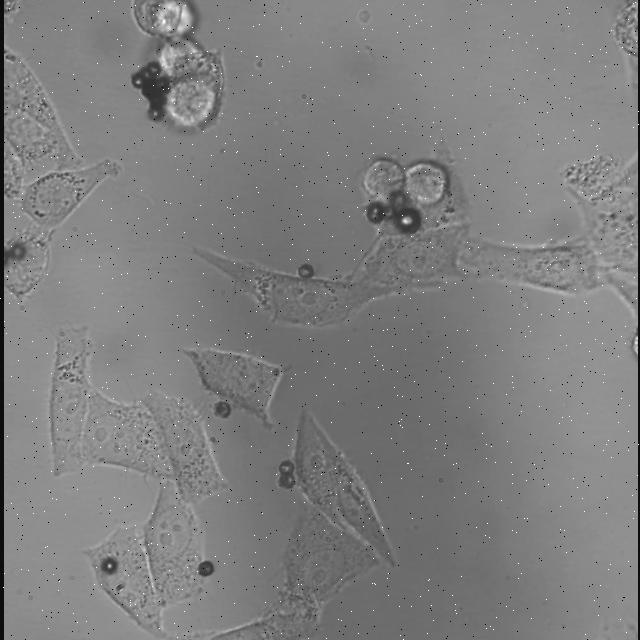microbeads: (394, 208, 420, 232), (366, 203, 386, 223), (195, 561, 215, 577), (213, 402, 230, 420), (278, 473, 294, 489), (298, 264, 314, 280), (102, 560, 116, 574), (278, 461, 292, 474)
